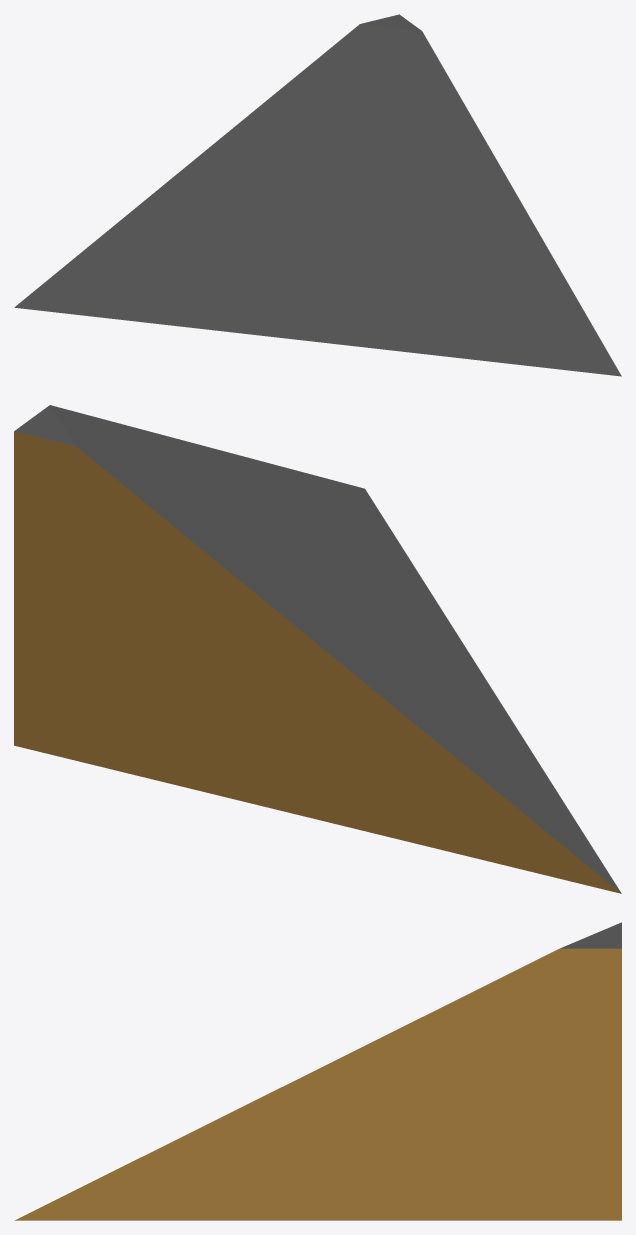
Rendered from Skate_Ramp_Corner_w_Back_01.FBX.
The picture shows the model from 3 angles, top to bottom: view 1: azimuth 30°, elevation 25°; view 2: azimuth 150°, elevation 25°; view 3: azimuth 270°, elevation 25°; orthographic projection. The views are drawn at different scales.
Visible parts, largest first — view 1: Skate_Ramp_Corner_w_Back_01; view 2: Skate_Ramp_Corner_w_Back_01; view 3: Skate_Ramp_Corner_w_Back_01.
Part boxes in pixels (x1,y1,x2,y2): Skate_Ramp_Corner_w_Back_01: (14,14,621,376); Skate_Ramp_Corner_w_Back_01: (14,405,621,893); Skate_Ramp_Corner_w_Back_01: (15,922,621,1220).
Bounding box in the file's own units: 3000 × 1482 × 3000.
